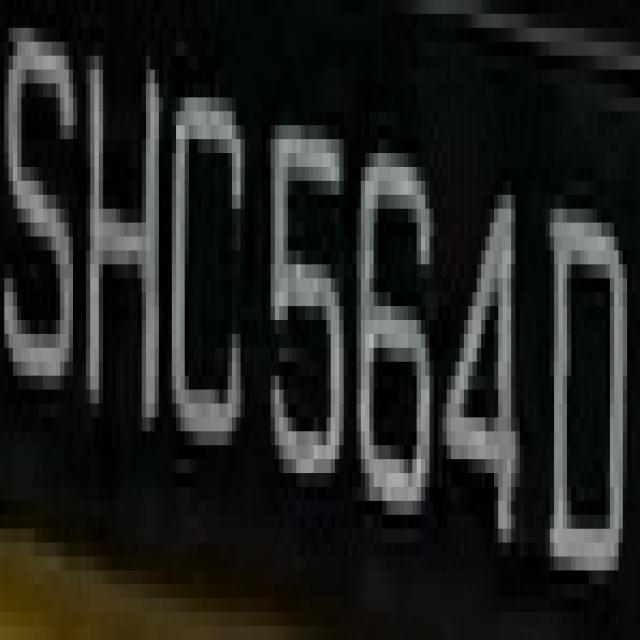4: (442, 139, 528, 557)
5: (258, 84, 352, 528)
6: (348, 97, 442, 515)
C: (168, 84, 249, 459)
D: (537, 181, 627, 612)
H: (78, 14, 164, 431)
S: (0, 13, 77, 417)
